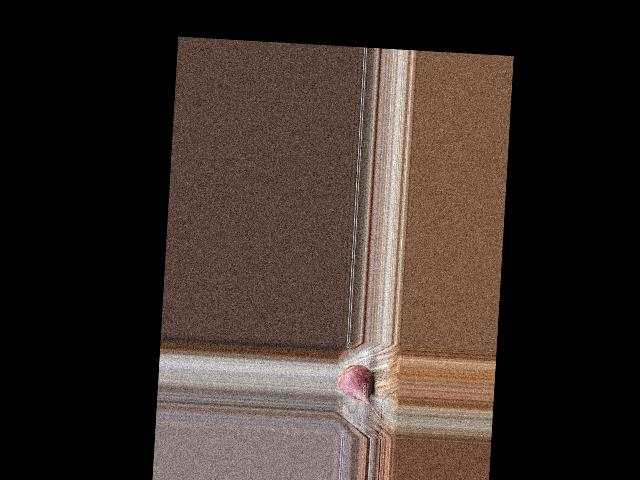beet: (336, 363, 384, 419)
